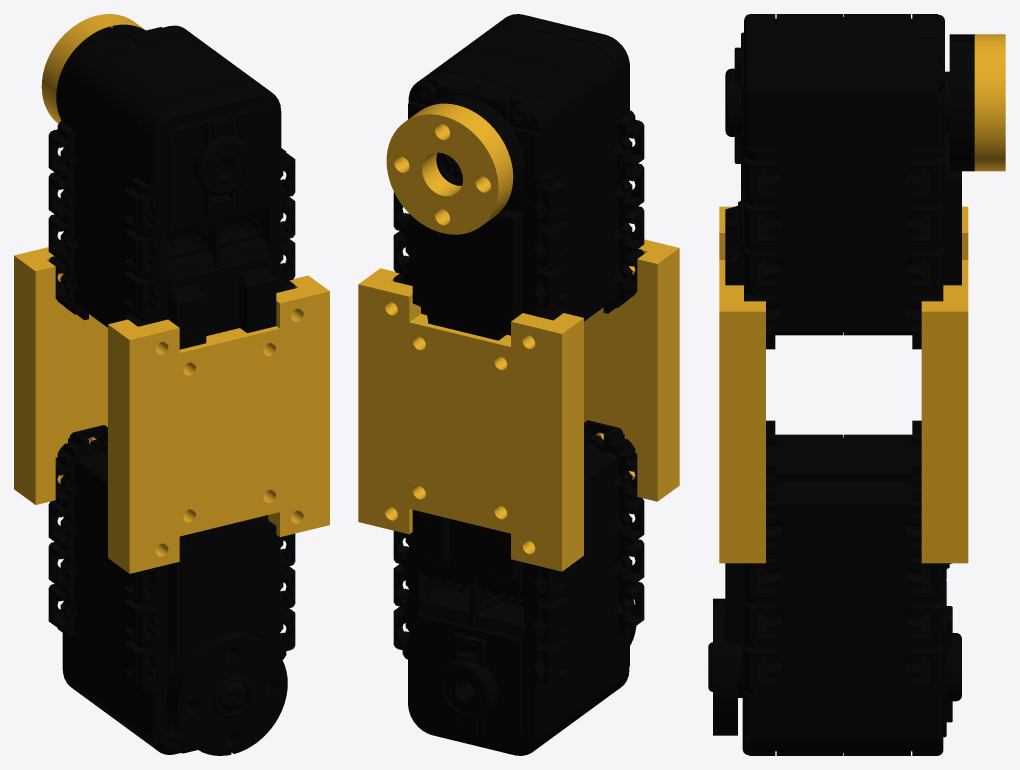
File: right_bicep.dae
3 renders of one model, left to right at view 1: azimuth 30°, elevation 25°; view 2: azimuth 150°, elevation 25°; view 3: azimuth 270°, elevation 25°, orthographic. The views are drawn at different scales.
Visible parts, largest first — view 1: Body1_Glossy_-_Black (×4), Body1_Plastic_-_Matte_(Yellow) (×3); view 2: Body1_Glossy_-_Black (×3), Body1_Plastic_-_Matte_(Yellow) (×3); view 3: Body1_Glossy_-_Black (×4), Body1_Plastic_-_Matte_(Yellow) (×3).
Boxes of the visible parts, x1,y1,x2,y2 form: Body1_Glossy_-_Black (×4): (48, 24, 295, 755); Body1_Plastic_-_Matte_(Yellow) (×3): (14, 14, 329, 573); Body1_Glossy_-_Black (×3): (393, 14, 644, 755); Body1_Plastic_-_Matte_(Yellow) (×3): (358, 103, 679, 571); Body1_Glossy_-_Black (×4): (708, 14, 974, 755); Body1_Plastic_-_Matte_(Yellow) (×3): (719, 34, 1005, 563).
Bounding box in the file's own units: 0.04 × 0.0477 × 0.123.
